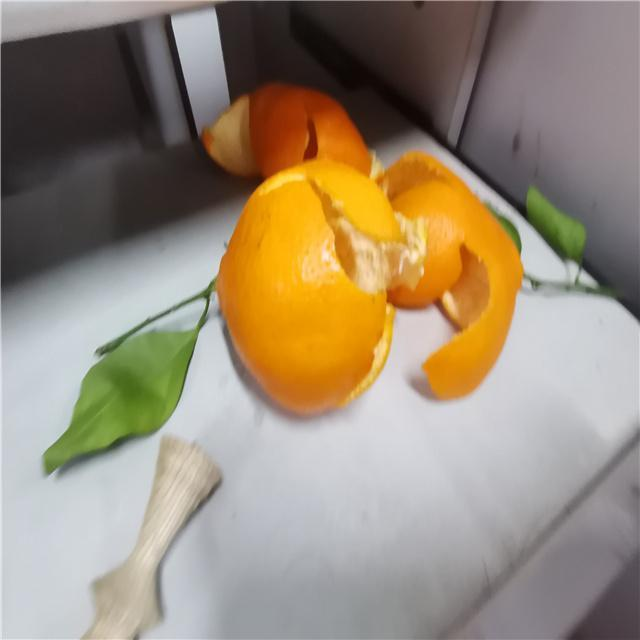orange-peel: (215, 157, 402, 415), (383, 143, 531, 404), (204, 88, 385, 182)
